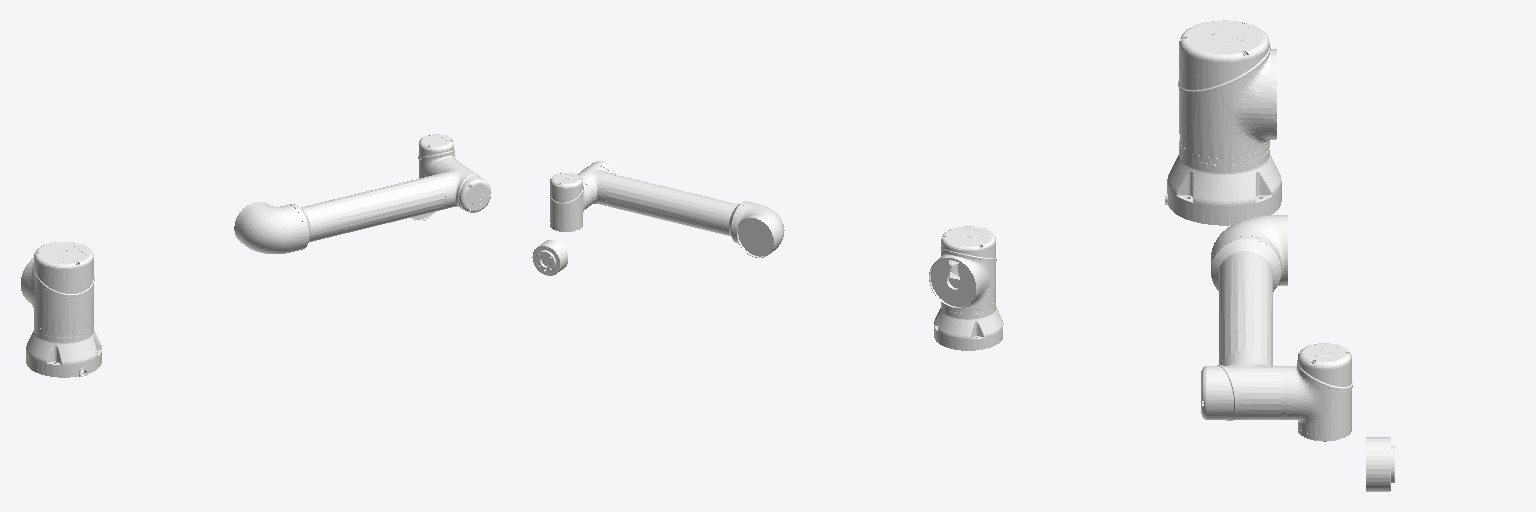
The robot description file, URDF, robot "GBT_C12A":
<?xml version="1.0" encoding="utf-8"?>
<!-- This URDF was automatically created by SolidWorks to URDF Exporter! Originally created by Stephen Brawner (brawner@gmail.com) 
     Commit Version: 1.6.0-1-g15f4949  Build Version: 1.6.7594.29634
     For more information, please see http://wiki.ros.org/sw_urdf_exporter -->
<robot
  name="GBT_C12A">
  <link
    name="base_link">
    <inertial>
      <origin
        xyz="1.333E-06 -0.0061641 0.051682"
        rpy="0 0 0" />
      <mass
        value="13.842" />
      <inertia
        ixx="0.040221"
        ixy="1.3302E-05"
        ixz="-7.5729E-07"
        iyy="0.032081"
        iyz="0.00058993"
        izz="0.059352" />
    </inertial>
    <visual>
      <origin
        xyz="0 0 0"
        rpy="0 0 0" />
      <geometry>
        <mesh
          filename="package://gbt_description/meshes/visual/c12a/c12a_base.dae" />
      </geometry>
      <material
        name="">
        <color
          rgba="1 1 1 1" />
      </material>
    </visual>
    <collision>
      <origin
        xyz="0 0 0"
        rpy="0 0 0" />
      <geometry>
        <mesh
          filename="package://gbt_description/meshes/collision/c12a/c12a_base.STL" />
      </geometry>
    </collision>
  </link>
  <link
    name="link1">
    <inertial>
      <origin
        xyz="-4.7127E-05 0.0057889 0.10293"
        rpy="0 0 0" />
      <mass
        value="31.15" />
      <inertia
        ixx="0.15484"
        ixy="5.7629E-05"
        ixz="1.0175E-07"
        iyy="0.14949"
        iyz="0.00012177"
        izz="0.097986" />
    </inertial>
    <visual>
      <origin
        xyz="0 0 0"
        rpy="0 0 0" />
      <geometry>
        <mesh
          filename="package://gbt_description/meshes/visual/c12a/c12a_1.dae" />
      </geometry>
      <material
        name="">
        <color
          rgba="1 1 1 1" />
      </material>
    </visual>
    <collision>
      <origin
        xyz="0 0 0"
        rpy="0 0 0" />
      <geometry>
        <mesh
          filename="package://gbt_description/meshes/collision/c12a/c12a_1.STL" />
      </geometry>
    </collision>
  </link>
  <joint
    name="joint1"
    type="revolute">
    <origin
      xyz="0 0 0.094"
      rpy="0 0 0" />
    <parent
      link="base_link" />
    <child
      link="link1" />
    <axis
      xyz="0 0 1" />
    <limit
      lower="-6.283185307179"
      upper="6.283185307179"
      effort="100"
      velocity="1" />
  </joint>
  <link
    name="link2">
    <inertial>
      <origin
        xyz="0.25627 1.1532E-05 0.10281"
        rpy="0 0 0" />
      <mass
        value="88.756" />
      <inertia
        ixx="0.27835"
        ixy="0.00048229"
        ixz="-0.0077364"
        iyy="5.0986"
        iyz="3.0613E-05"
        izz="5.0184" />
    </inertial>
    <visual>
      <origin
        xyz="0 0 0"
        rpy="0 0 0" />
      <geometry>
        <mesh
          filename="package://gbt_description/meshes/visual/c12a/c12a_2.dae" />
      </geometry>
      <material
        name="">
        <color
          rgba="1 1 1 1" />
      </material>
    </visual>
    <collision>
      <origin
        xyz="0 0 0"
        rpy="0 0 0 "  />
      <geometry>
        <mesh
          filename="package://gbt_description/meshes/collision/c12a/c12a_2.STL" />
      </geometry>
    </collision>
  </link>
  <joint
    name="joint2"
    type="revolute">
    <origin
      xyz="0 0.082 0.102"
      rpy="-1.5708 0 0" />
    <parent
      link="link1" />
    <child
      link="link2" />
    <axis
      xyz="0 0 -1" />
    <limit
      lower="-1.483529864195"
      upper="4.625122517784"
      effort="100"
      velocity="1" />
  </joint>
  <link
    name="link3">
    <inertial>
      <origin
        xyz="-0.27117 3.4432E-06 0.061195"
        rpy="0 0 0" />
      <mass
        value="40.597" />
      <inertia
        ixx="0.060991"
        ixy="2.6089E-05"
        ixz="0.031846"
        iyy="1.7475"
        iyz="-3.0307E-06"
        izz="1.7363" />
    </inertial>
    <visual>
      <origin
        xyz="0 0 0"
        rpy="0 0 0" />
      <geometry>
        <mesh
          filename="package://gbt_description/meshes/visual/c12a/c12a_3.dae" />
      </geometry>
      <material
        name="">
        <color
          rgba="1 1 1 1" />
      </material>
    </visual>
    <collision>
      <origin
        xyz="0 0 0"
        rpy="0 0 0" />
      <geometry>
        <mesh
          filename="package://gbt_description/meshes/collision/c12a/c12a_3.STL" />
      </geometry>
    </collision>
  </link>
  <joint
    name="joint3"
    type="revolute">
    <origin
      xyz="0.6125 0 0.018"
      rpy="-3.1416 0 3.1416" />
    <parent
      link="link2" />
    <child
      link="link3" />
    <axis
      xyz="0 0 1" />
    <limit
      lower="-2.87979326579"
      upper="2.87979326579"
      effort="100"
      velocity="1" />
  </joint>
  <link
    name="link4">
    <inertial>
      <origin
        xyz="6.5018E-06 2.845E-05 0.051524"
        rpy="0 0 0" />
      <mass
        value="8.3137" />
      <inertia
        ixx="0.019136"
        ixy="1.5554E-07"
        ixz="3.1721E-07"
        iyy="0.010018"
        iyz="-1.1155E-05"
        izz="0.017943" />
    </inertial>
    <visual>
      <origin
        xyz="0 0 0"
        rpy="0 0 0" />
      <geometry>
        <mesh
          filename="package://gbt_description/meshes/visual/c12a/c12a_4.dae" />
      </geometry>
      <material
        name="">
        <color
          rgba="1 1 1 1" />
      </material>
    </visual>
    <collision>
      <origin
        xyz="0 0 0"
        rpy="0 0 0"/>
      <geometry>
        <mesh
          filename="package://gbt_description/meshes/collision/c12a/c12a_4.STL" />
      </geometry>
    </collision>
  </link>
  <joint
    name="joint4"
    type="revolute">
    <origin
      xyz="-0.5605 0 -0.0098"
      rpy="-3.1416 0 3.1416" />
    <parent
      link="link3" />
    <child
      link="link4" />
    <axis
      xyz="0 0 -1" />
    <limit
      lower="-1.483529864195"
      upper="4.625122517784"
      effort="100"
      velocity="1" />
  </joint>
  <link
    name="link5">
    <inertial>
      <origin
        xyz="-6.925E-06 -3.1254E-06 -0.051525"
        rpy="0 0 0" />
      <mass
        value="8.316" />
      <inertia
        ixx="0.019157"
        ixy="-2.8321E-07"
        ixz="4.2716E-07"
        iyy="0.010013"
        iyz="9.0766E-06"
        izz="0.017964" />
    </inertial>
    <visual>
      <origin
        xyz="0 0 0"
        rpy="1.5707963268 0 0" />
      <geometry>
        <mesh
          filename="package://gbt_description/meshes/visual/c12a/c12a_5.dae" />
      </geometry>
      <material
        name="">
        <color
          rgba="1 1 1 1" />
      </material>
    </visual>
    <collision>
      <origin
        xyz="0 0 0"
        rpy="1.5707963268 0 0" />
      <geometry>
        <mesh
          filename="package://gbt_description/meshes/collision/c12a/c12a_5.STL" />
      </geometry>
    </collision>
  </link>
  <joint
    name="joint5"
    type="revolute">
    <origin
      xyz="0 0.0738 0.057"
      rpy="1.5708 0 0" />
    <parent
      link="link4" />
    <child
      link="link5" />
    <axis
      xyz="0 0 -1" />
    <limit
      lower="-6.283185307179"
      upper="6.283185307179"
      effort="100"
      velocity="1" />
  </joint>
  <link
    name="link6">
    <inertial>
      <origin
        xyz="1.446E-08 0.00013423 0.018933"
        rpy="0 0 0" />
      <mass
        value="1.9242" />
      <inertia
        ixx="0.0012043"
        ixy="1.9574E-09"
        ixz="1.7738E-09"
        iyy="0.0012178"
        iyz="1.1555E-06"
        izz="0.0019174" />
    </inertial>
    <visual>
      <origin
        xyz="0 0 0"
        rpy="0 1.5707963268 0" />
      <geometry>
        <mesh
          filename="package://gbt_description/meshes/visual/c12a/c12a_6.dae" />
      </geometry>
      <material
        name="">
        <color
          rgba="1 1 1 1" />
      </material>
    </visual>
    <collision>
      <origin
        xyz="0 0 0"
        rpy="0 1.5707963268 0" />
      <geometry>
        <mesh
          filename="package://gbt_description/meshes/collision/c12a/c12a_6.STL" />
      </geometry>
    </collision>
  </link>
  <joint
    name="joint6"
    type="revolute">
    <origin
      xyz="0 0.0738 -0.057"
      rpy="-1.5708 0 0" />
    <parent
      link="link5" />
    <child
      link="link6" />
    <axis
      xyz="0 0 1" />
    <limit
      lower="-6.283185307179"
      upper="6.283185307179"
      effort="100"
      velocity="1" />
  </joint>
</robot>

--- Render facts (derived) ---
3 views of the same robot in one strip: view 1: azimuth 30°, elevation 25°; view 2: azimuth 150°, elevation 25°; view 3: azimuth 270°, elevation 25° (orthographic).
Model GBT_C12A with 7 links and 6 joints (6 revolute), rooted at base_link, posed every joint at zero.
Links seen in each view (by area): view 1: link3, link1, base_link, link4; view 2: link3, link1, base_link, link4, link6; view 3: link3, link1, base_link, link4, link6.
Link boxes in pixels (x1=…): link3: x1=234, y1=160, x2=491, y2=253; link1: x1=21, y1=242, x2=94, y2=337; base_link: x1=26, y1=328, x2=101, y2=377; link4: x1=418, y1=134, x2=457, y2=178; link3: x1=577, y1=161, x2=784, y2=257; link1: x1=929, y1=226, x2=996, y2=314; base_link: x1=934, y1=304, x2=1003, y2=350; link4: x1=550, y1=173, x2=591, y2=231; link6: x1=532, y1=240, x2=567, y2=275; link3: x1=1201, y1=215, x2=1287, y2=420; link1: x1=1178, y1=20, x2=1276, y2=165; base_link: x1=1165, y1=149, x2=1281, y2=225; link4: x1=1287, y1=343, x2=1352, y2=441; link6: x1=1366, y1=437, x2=1394, y2=491.
Size in the robot's own frame: 1.31 by 0.3816 by 0.3008 metres.
5 mesh visuals loaded from 7 distinct referenced files (5 Collada DAE); not drawn: 2 (reference not matched to a file when rendering).
